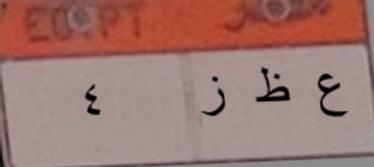4: (79, 82, 106, 123)
Thaa: (251, 63, 294, 107)
ain: (311, 70, 349, 124)
zay: (197, 74, 230, 118)
